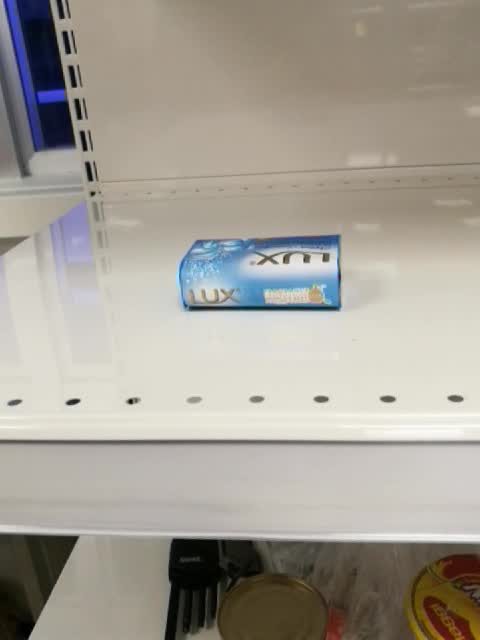soap: (176, 233, 344, 313)
